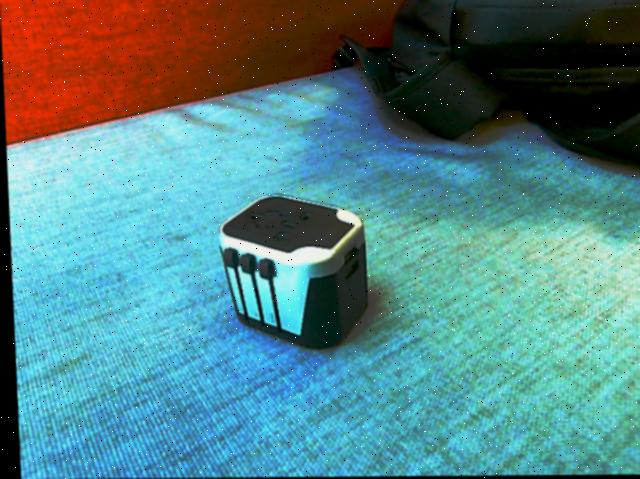adapter: (214, 194, 367, 351)
